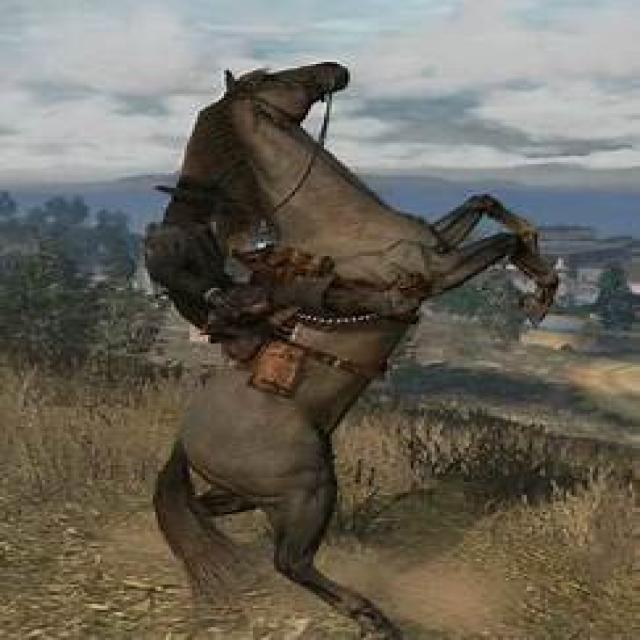horse: (142, 60, 558, 638)
